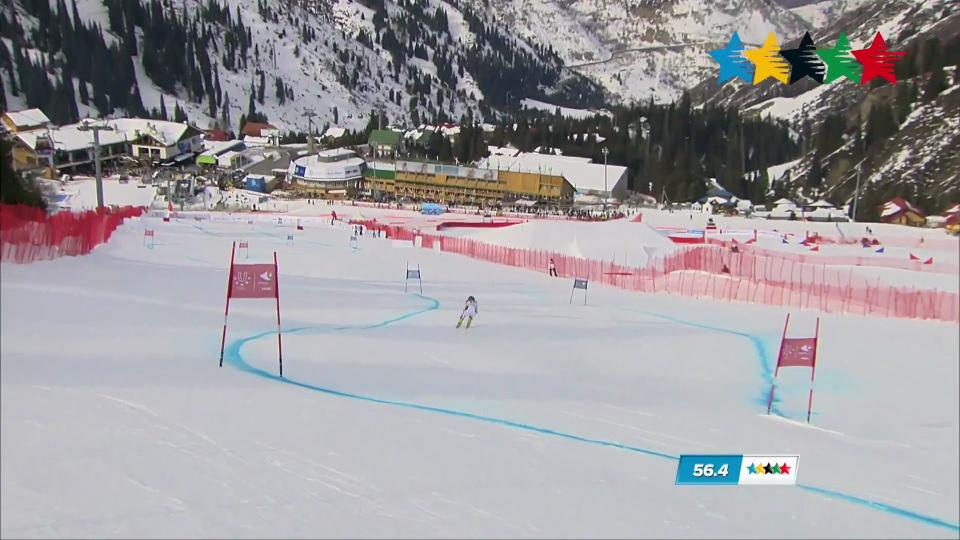gate: (192, 222, 243, 395), (260, 238, 317, 391), (750, 298, 793, 425), (803, 303, 828, 436)
